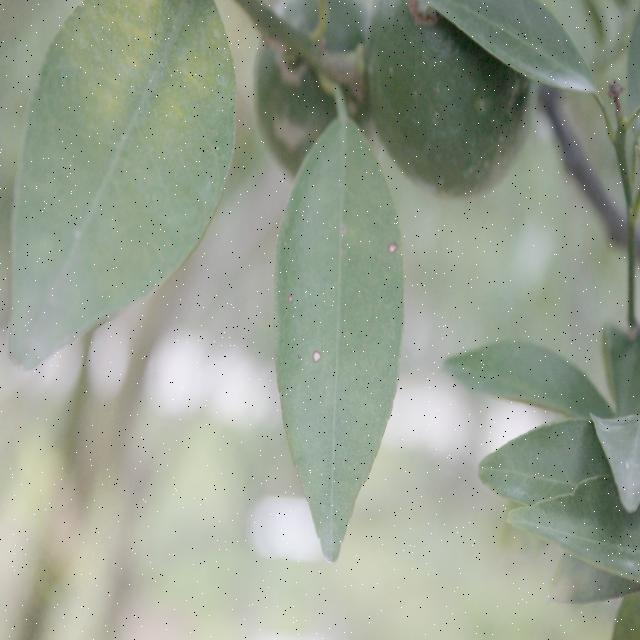canker: (279, 230, 399, 412)
